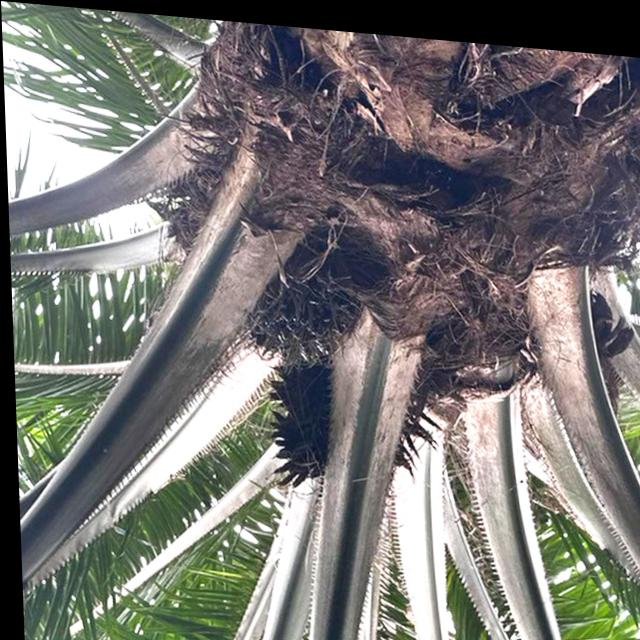unripe: (233, 228, 364, 367)
